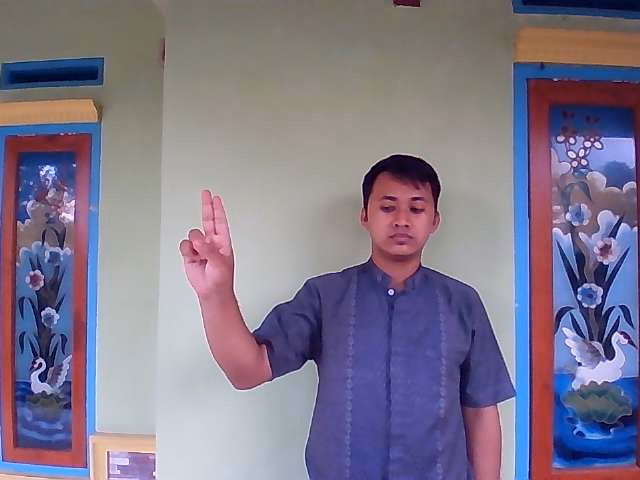U: (178, 186, 237, 302)
